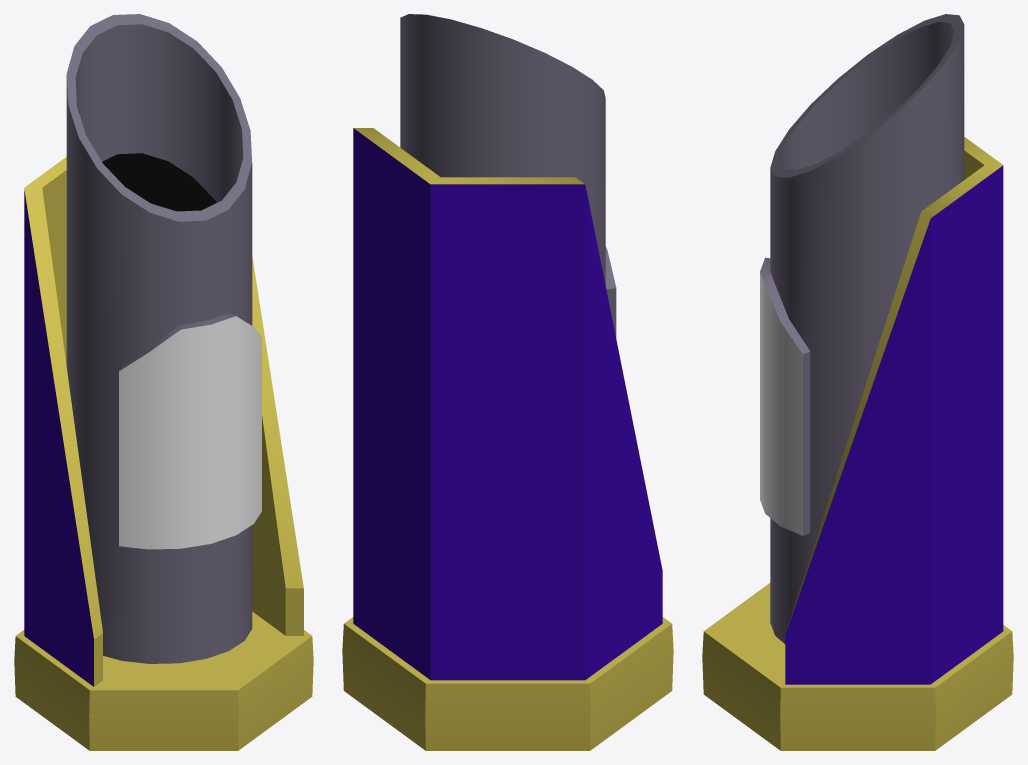
Rendered from kepler.glb.
The picture shows the model from 3 angles, left to right: view 1: azimuth 30°, elevation 25°; view 2: azimuth 150°, elevation 25°; view 3: azimuth 270°, elevation 25°; orthographic projection. The views are drawn at different scales.
Parts seen in each view (by area): view 1: Kepler; view 2: Kepler; view 3: Kepler.
Boxes of the visible parts, bbox=[...] form: Kepler: bbox=[14, 14, 313, 750]; Kepler: bbox=[342, 14, 673, 750]; Kepler: bbox=[702, 14, 1013, 750].
Bounding box in the file's own units: 0.0278 × 0.0762 × 0.0321.
2 materials, 2 textured.
